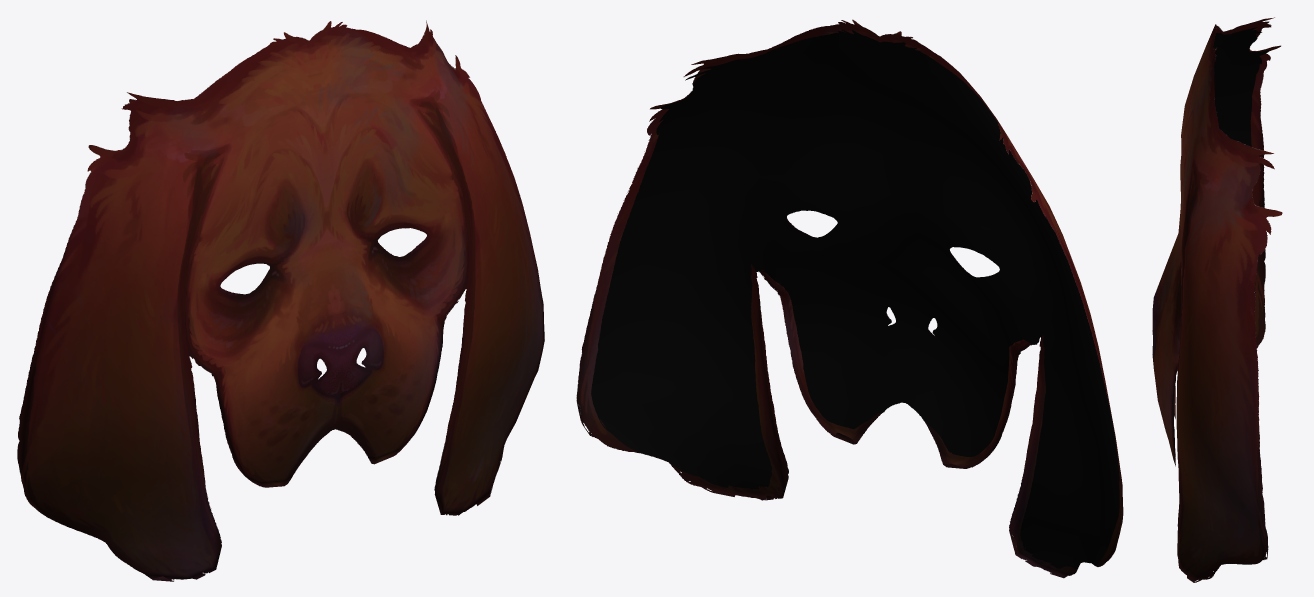
File: DogMask.fbx
The picture shows the model from 3 angles, left to right: view 1: azimuth 30°, elevation 25°; view 2: azimuth 150°, elevation 25°; view 3: azimuth 270°, elevation 25°; orthographic projection. The views are drawn at different scales.
Visible parts, largest first — view 1: Mask2; view 2: Mask2; view 3: Mask2.
Part boxes in pixels (bbox=[...]): Mask2: bbox=[17, 20, 544, 581]; Mask2: bbox=[576, 19, 1123, 578]; Mask2: bbox=[1152, 17, 1282, 582].
Bounding box in the file's own units: 4.4 × 4.06 × 1.13.
2 materials, 1 textured.
